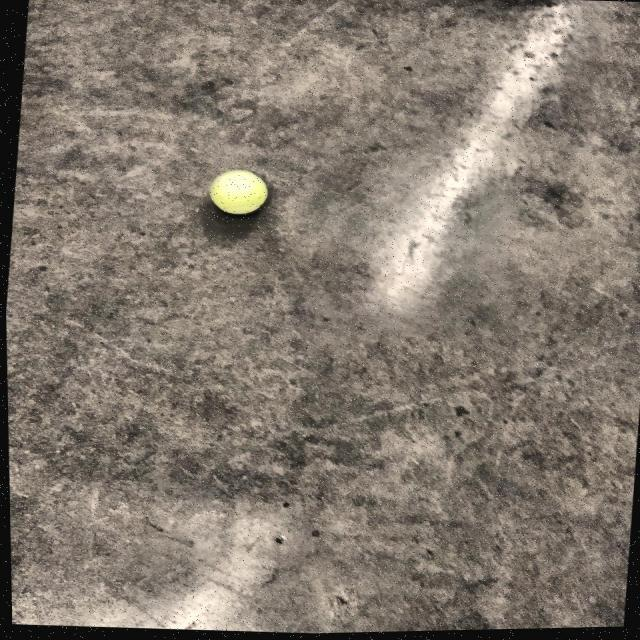tennis-ball: (200, 164, 278, 232)
